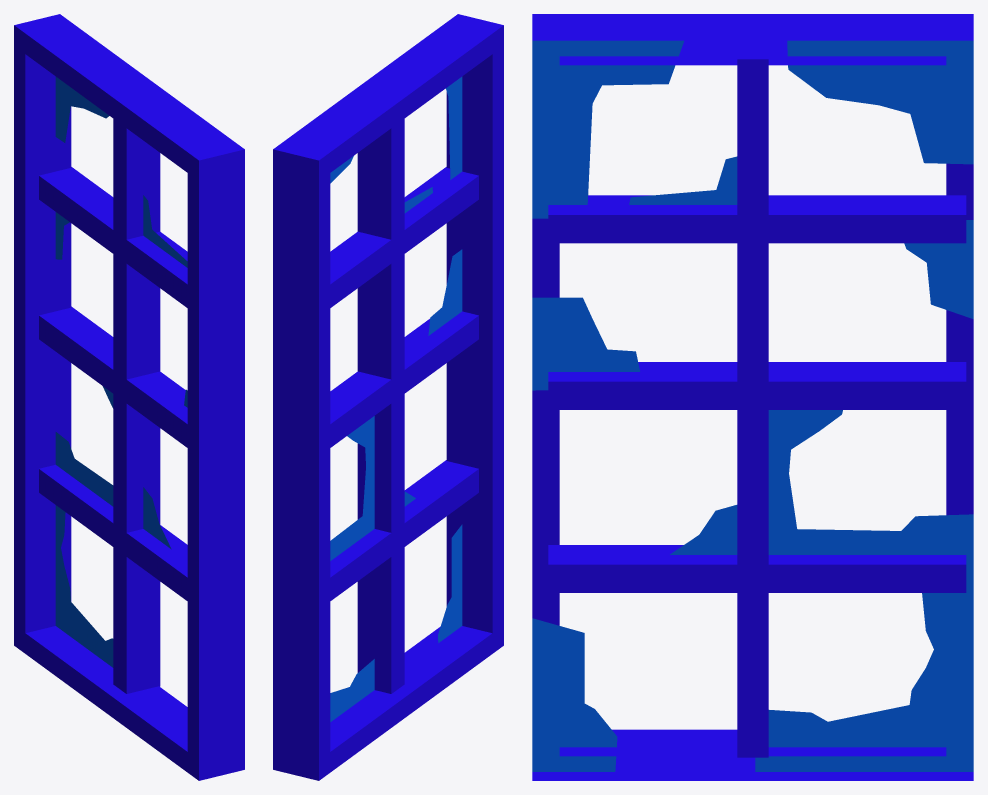
Rendered from SM_Window7.fbx.
3 renders of one model, left to right at view 1: azimuth 30°, elevation 25°; view 2: azimuth 150°, elevation 25°; view 3: azimuth 270°, elevation 25°, orthographic. The views are drawn at different scales.
Visible parts, largest first — view 1: Window7; view 2: Window7; view 3: Window7.
Part boxes in pixels (x1,y1,x2,y2): Window7: (14,14,244,780); Window7: (273,14,503,780); Window7: (532,14,973,780).
Bounding box in the file's own units: 9.91 × 125 × 67.46.
